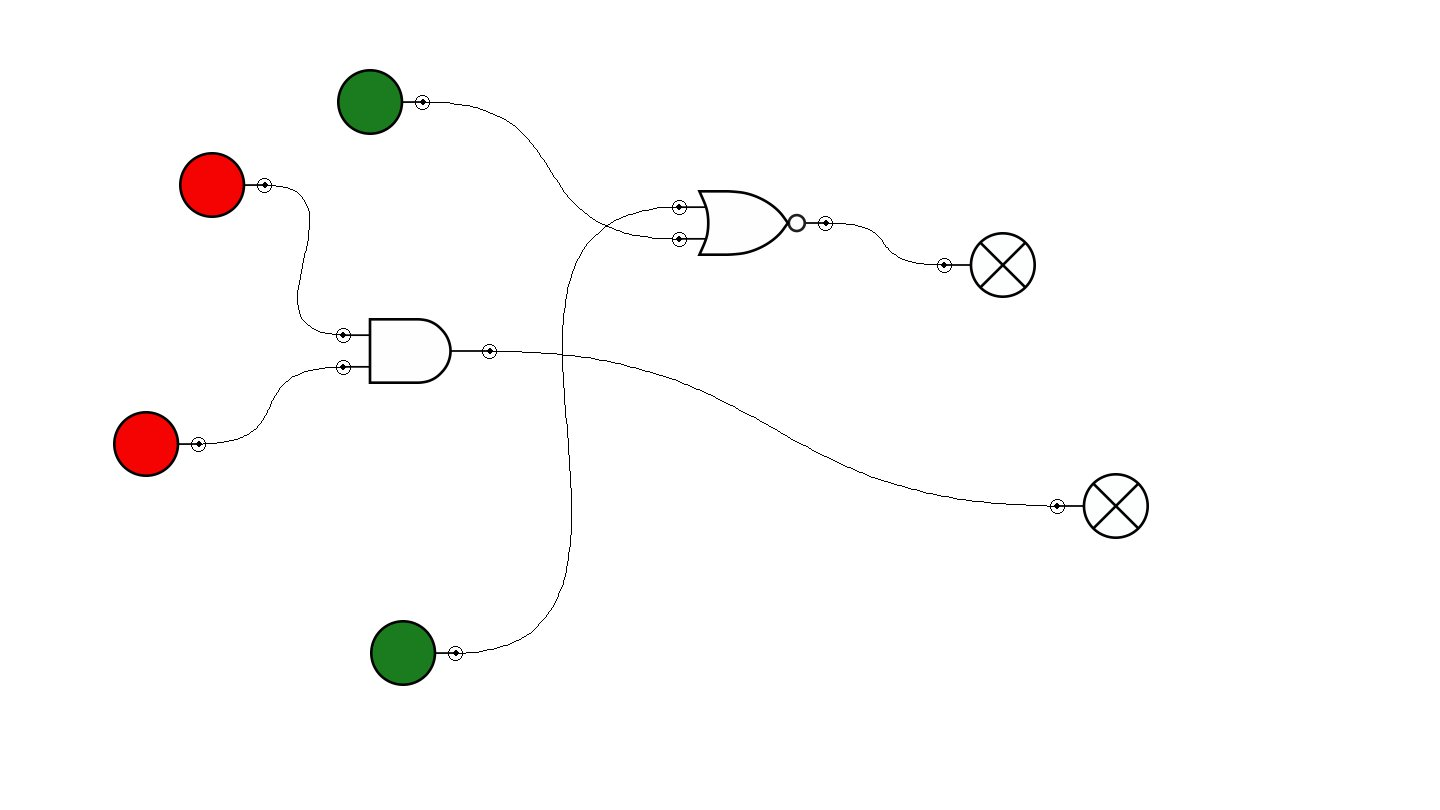and: (336, 318, 497, 384)
bulb: (1050, 473, 1149, 539), (937, 232, 1036, 298)
nor: (672, 190, 833, 256)
switch_False: (113, 411, 206, 477), (179, 152, 272, 218)
switch_True: (337, 69, 430, 135), (370, 620, 463, 686)
